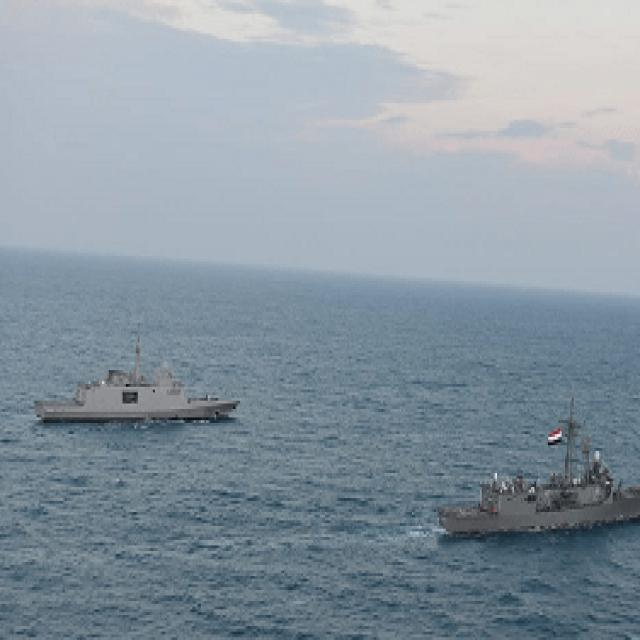navalvessels: (434, 395, 640, 540), (29, 335, 239, 438)
